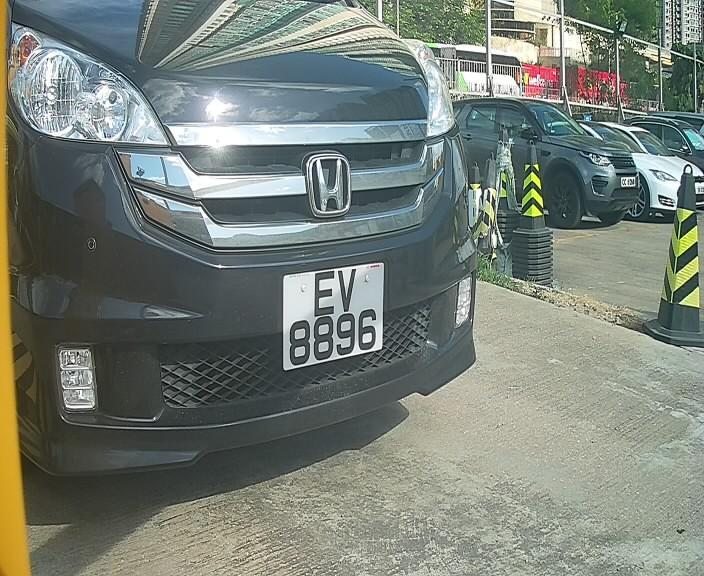privatecar: (7, 8, 481, 471)
